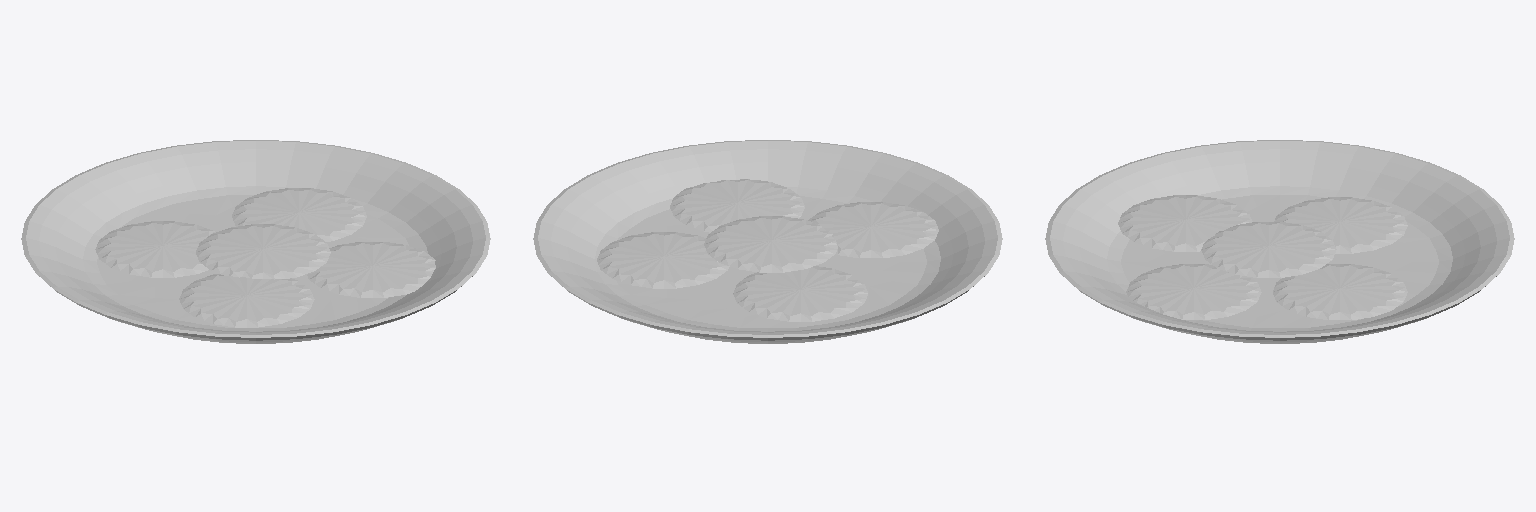
File: KUE cucur.obj
3 renders of one model, left to right at view 1: azimuth 30°, elevation 25°; view 2: azimuth 150°, elevation 25°; view 3: azimuth 270°, elevation 25°, orthographic.
Parts seen in each view (by area): view 1: Cylinder, Cylinder.009_Cylinder.012, Cylinder.007_Cylinder.008, Cylinder.005_Cylinder.006, Cylinder.001_Cylinder.002, Cylinder.003_Cylinder.004; view 2: Cylinder, Cylinder.009_Cylinder.012, Cylinder.001_Cylinder.002, Cylinder.003_Cylinder.004, Cylinder.007_Cylinder.008, Cylinder.005_Cylinder.006; view 3: Cylinder, Cylinder.009_Cylinder.012, Cylinder.003_Cylinder.004, Cylinder.005_Cylinder.006, Cylinder.007_Cylinder.008, Cylinder.001_Cylinder.002.
Boxes of the visible parts, box(x1,y1,x2,y2) form: Cylinder: box(21, 140, 490, 343); Cylinder.009_Cylinder.012: box(196, 224, 330, 279); Cylinder.007_Cylinder.008: box(179, 274, 314, 327); Cylinder.005_Cylinder.006: box(307, 242, 435, 297); Cylinder.001_Cylinder.002: box(95, 221, 215, 277); Cylinder.003_Cylinder.004: box(232, 188, 366, 241); Cylinder: box(533, 140, 1002, 343); Cylinder.009_Cylinder.012: box(704, 216, 837, 272); Cylinder.001_Cylinder.002: box(733, 266, 867, 321); Cylinder.003_Cylinder.004: box(597, 232, 729, 288); Cylinder.007_Cylinder.008: box(808, 202, 938, 257); Cylinder.005_Cylinder.006: box(670, 179, 804, 232); Cylinder: box(1045, 140, 1514, 343); Cylinder.009_Cylinder.012: box(1201, 222, 1336, 277); Cylinder.003_Cylinder.004: box(1273, 264, 1407, 319); Cylinder.005_Cylinder.006: box(1126, 264, 1261, 319); Cylinder.007_Cylinder.008: box(1118, 195, 1252, 251); Cylinder.001_Cylinder.002: box(1274, 197, 1407, 253).
Size of the model in its own units: 2.31 by 0.1971 by 2.31.